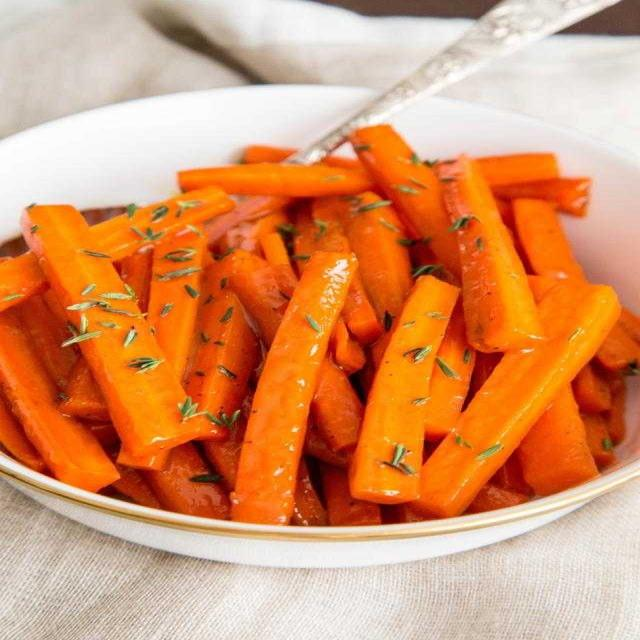carrots: (25, 205, 195, 443), (230, 250, 354, 545), (422, 176, 542, 352)
